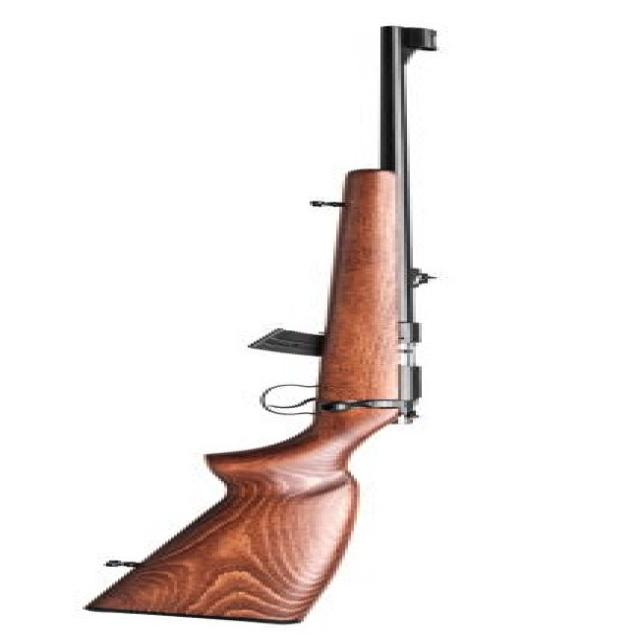rifle: (68, 18, 476, 637)
